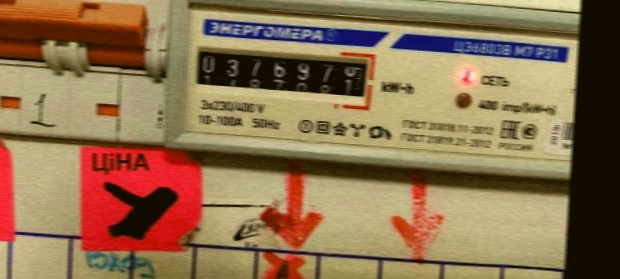0: (202, 49, 216, 70)
1: (343, 73, 355, 92)
3: (226, 53, 240, 74)
6: (273, 53, 287, 74)
7: (249, 52, 263, 74), (320, 58, 334, 80)
9: (296, 56, 310, 78)
screen: (187, 34, 381, 108)
